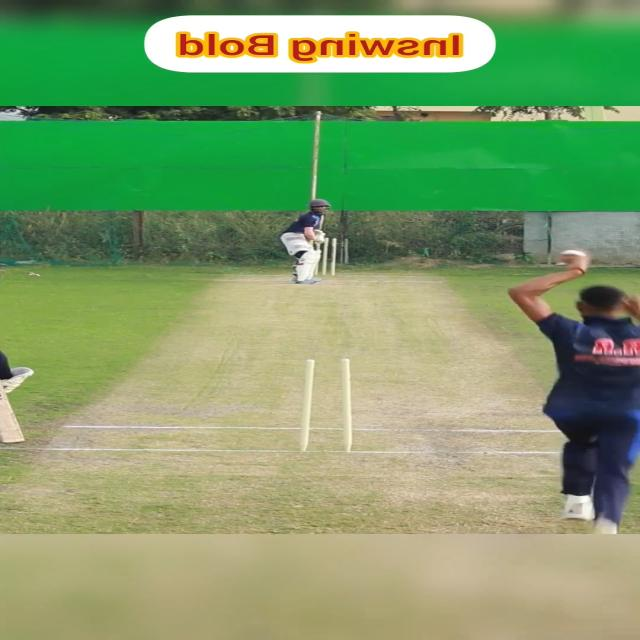stump: (296, 358, 356, 454), (314, 237, 338, 276)
